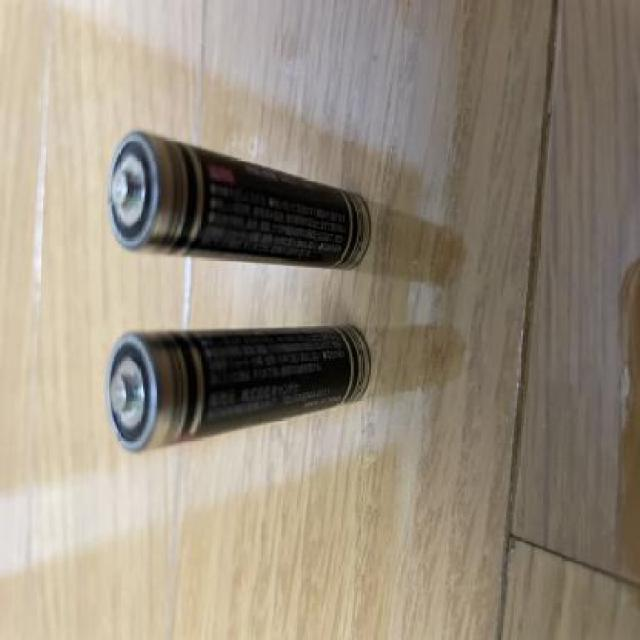hazardous waste: (66, 120, 394, 288), (94, 315, 394, 457)
